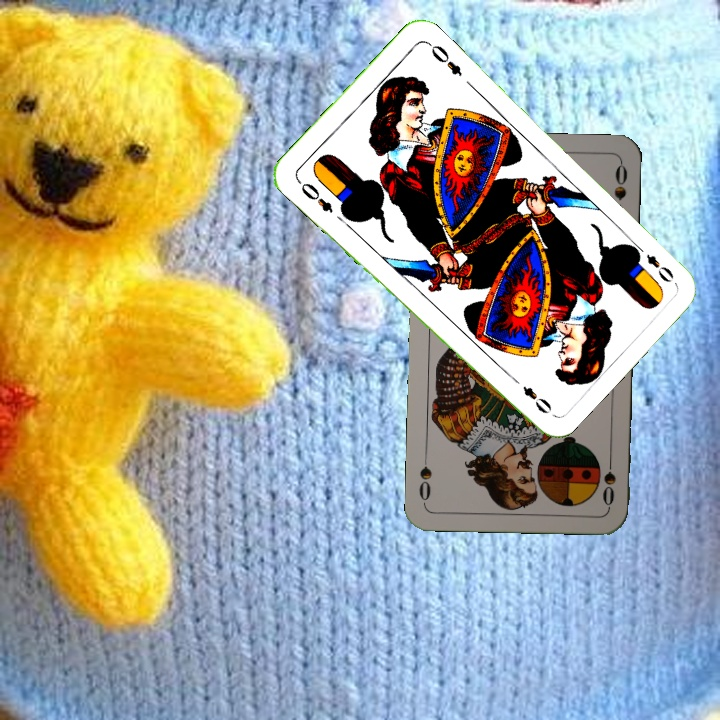EO: (630, 240, 677, 286), (293, 176, 336, 216)
SO: (599, 450, 618, 509)
